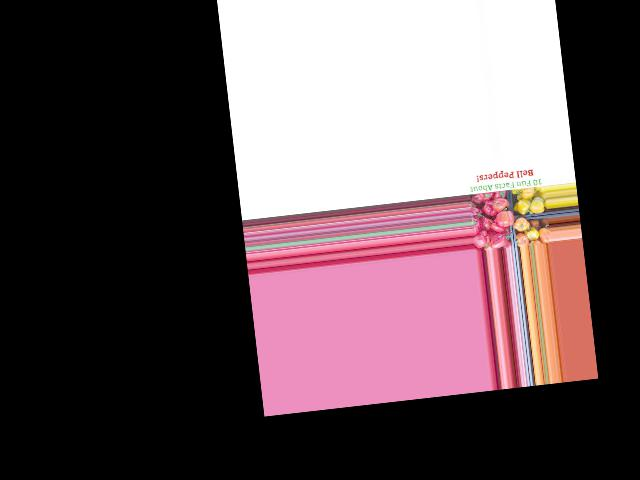bell_pepper: (475, 189, 498, 205)
